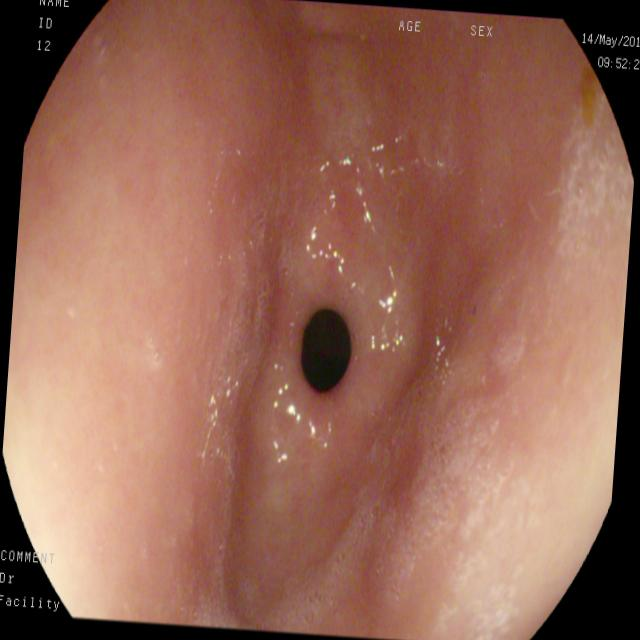normal-pylorus: (235, 160, 442, 517)
